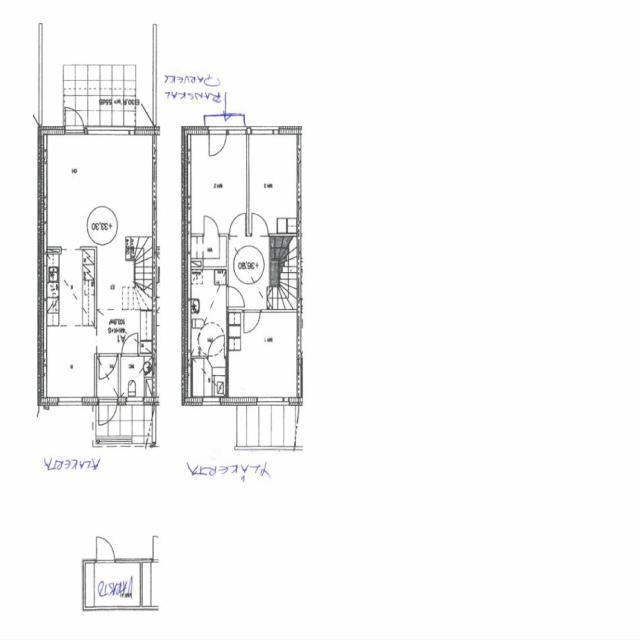door: (99, 397, 117, 428), (66, 104, 83, 135), (96, 535, 115, 562), (209, 127, 226, 157), (99, 353, 117, 378), (121, 332, 138, 356), (230, 212, 246, 236), (252, 212, 268, 236), (244, 309, 260, 333), (226, 286, 244, 307), (208, 335, 224, 358), (204, 214, 218, 236)
